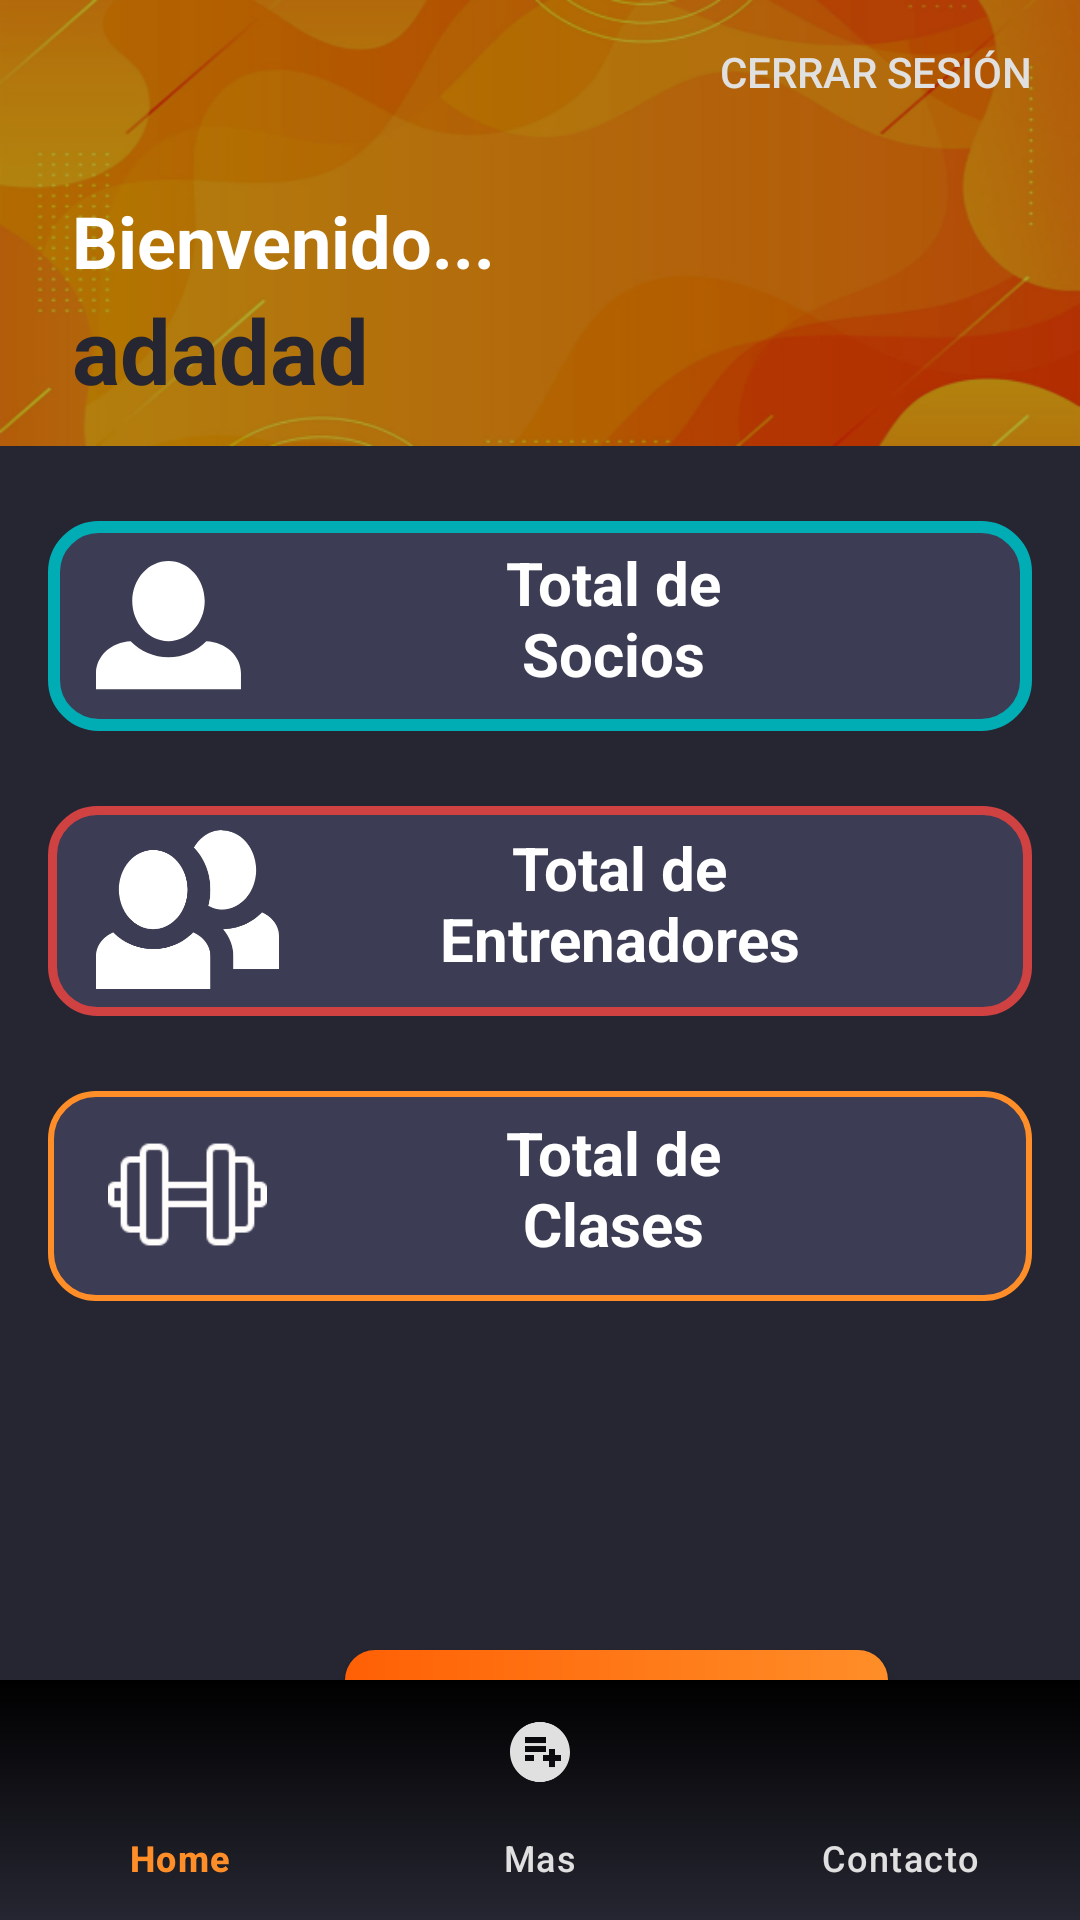

Screen size 1080 x 1920. Icon name, then its box in pixels as (x1, y1, x2, y2):
pesadash: (108, 1143, 267, 1246)
